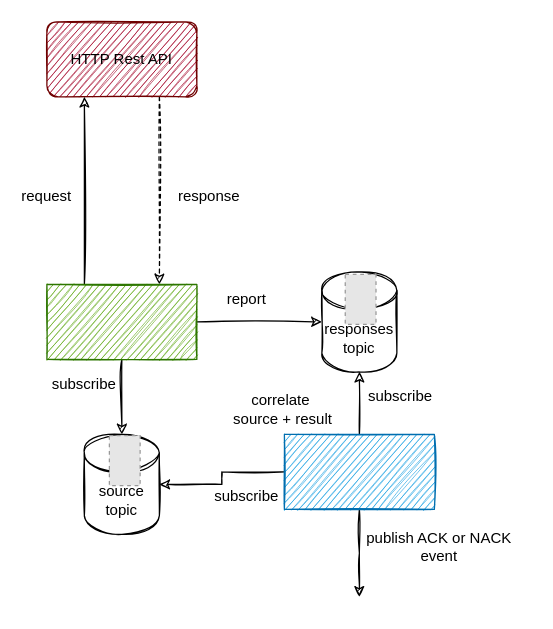
The diagram is 553 pixels wide and 629 high, and some of its shapes have lost their labels. Grey dashed boxes stand in for pictures. Each missing label, with the centre of its shape:
"Ack Forwarder" belongs at point 358,471.
"HttpSinkConnector" belongs at point 121,321.
